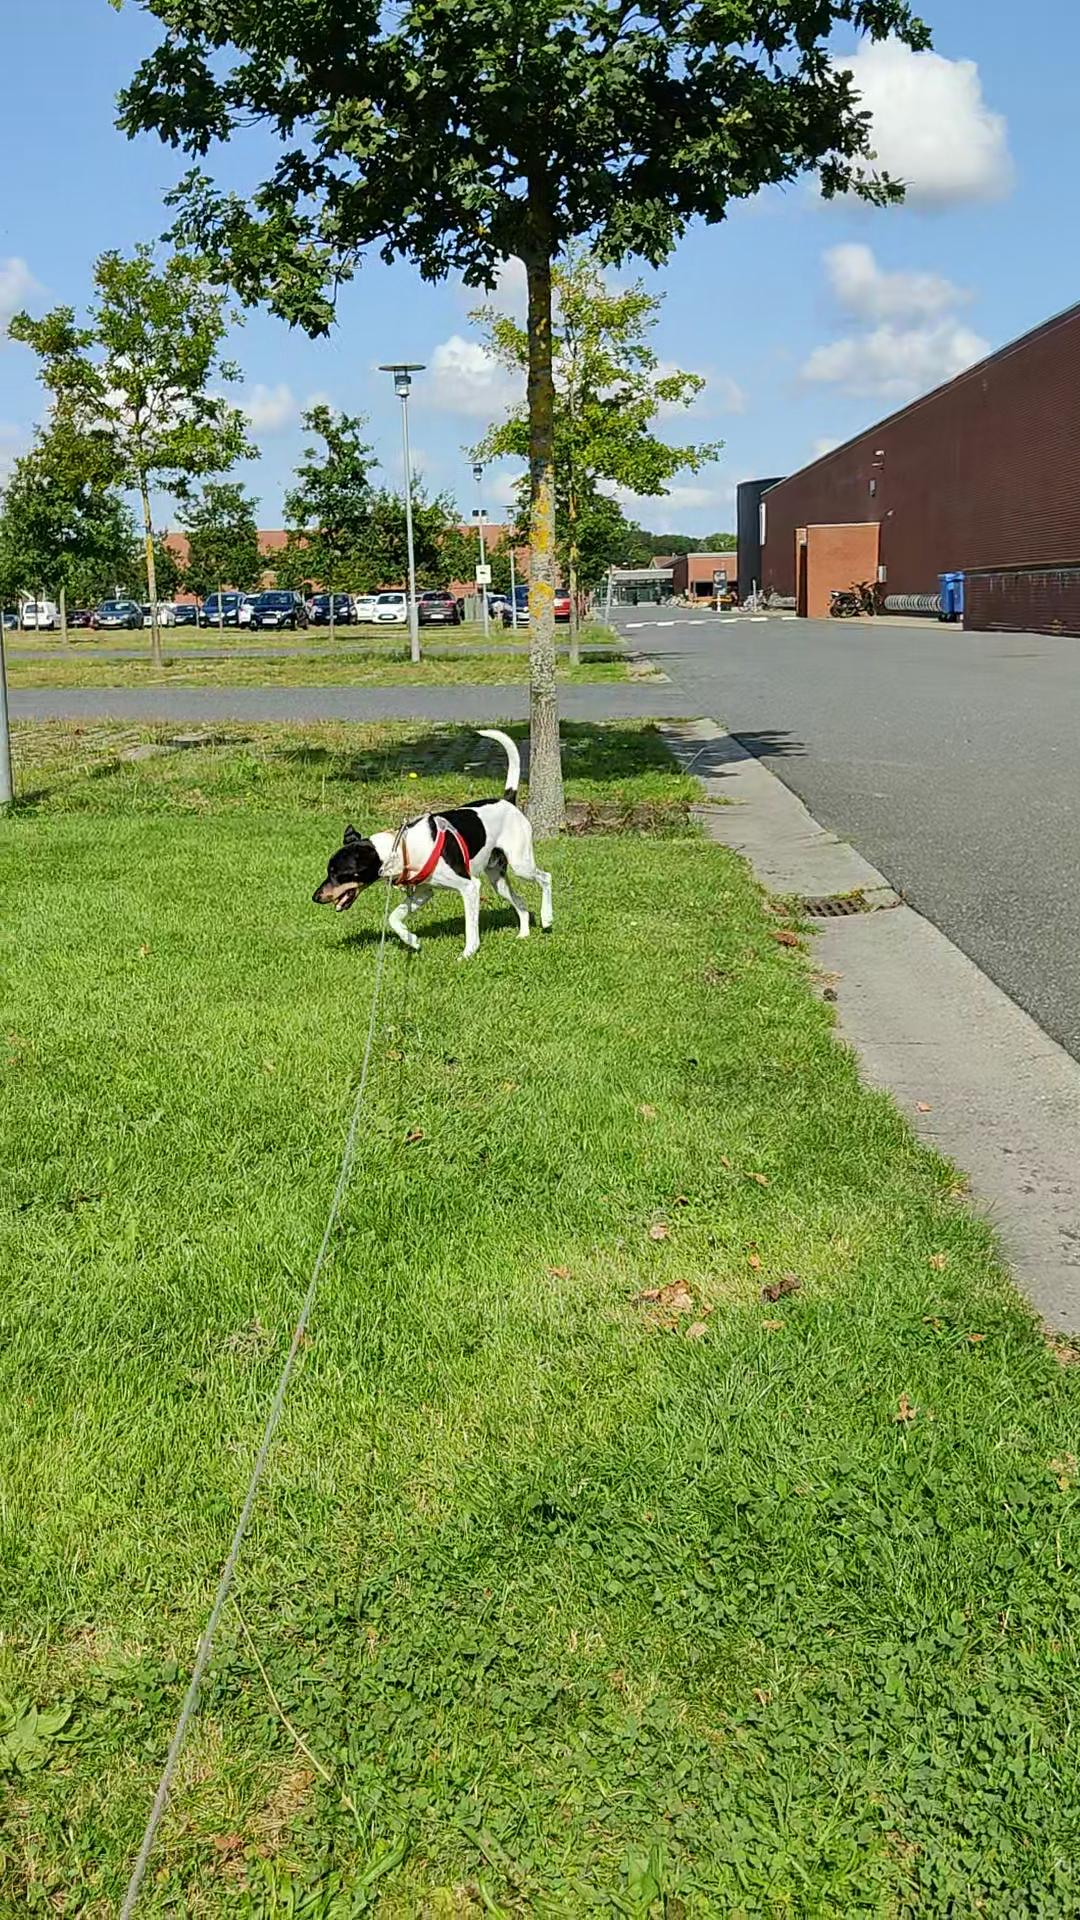Dog: (311, 728, 551, 965)
